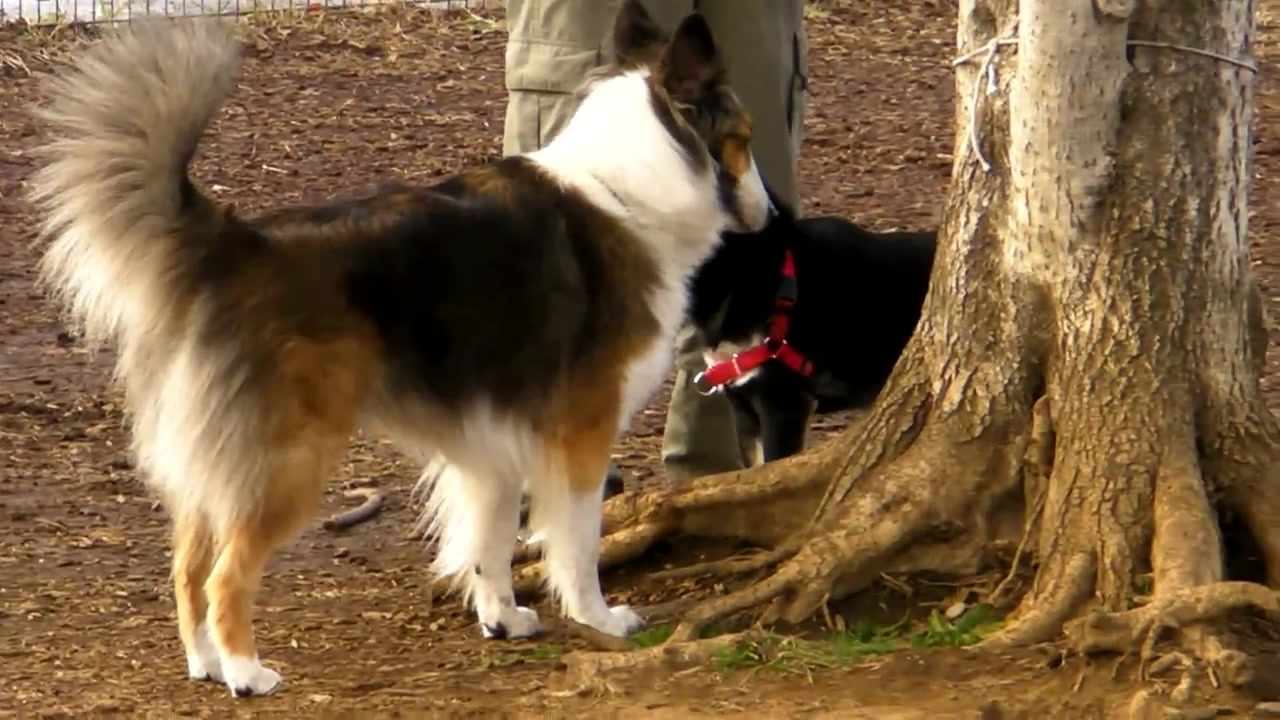dog: (41, 7, 778, 699)
